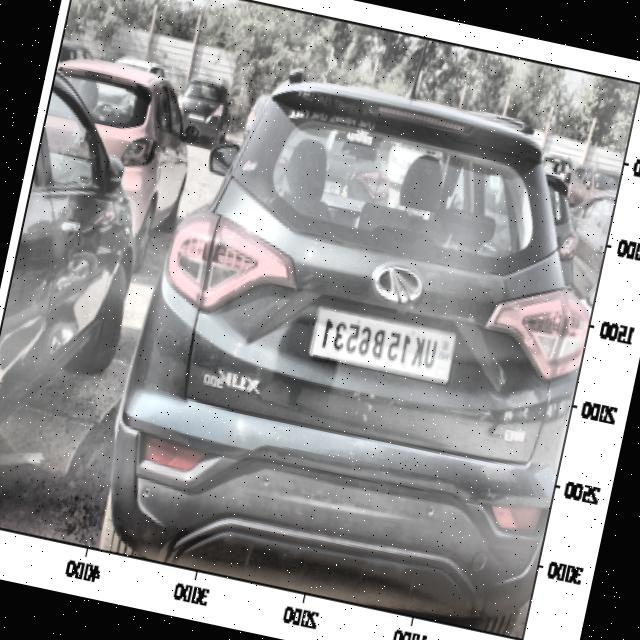license_plate: (308, 309, 446, 380)
